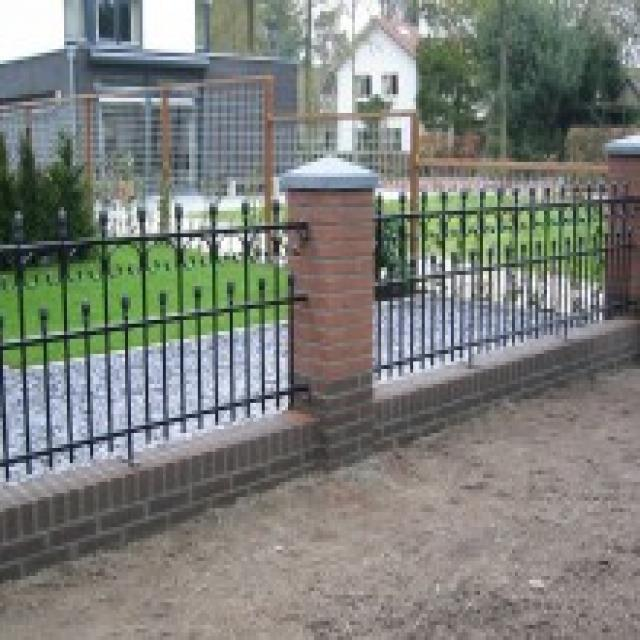fence line: (12, 238, 294, 411), (372, 207, 637, 346)
